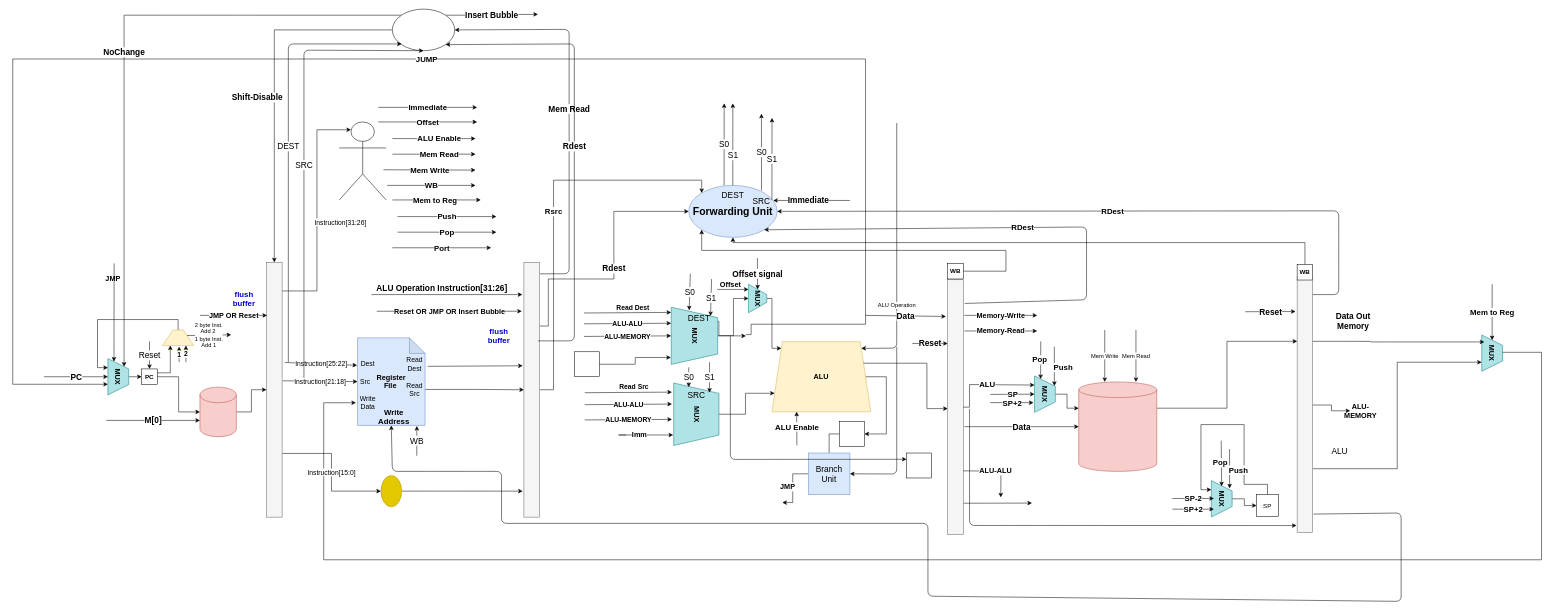
The diagram is 1555 pixels wide and 615 high, and some of its shapes have lost their labels. Here are the shapes that lost their labels. From the top down, the centre of each, then its label:
the point at 423,30: Hazards Detection Unit
the point at 362,160: Control Unit
the point at 178,337: ADD
the point at 586,364: In Port
the point at 217,412: Instruction Memory
the point at 1117,426: Data Memory
the point at 851,433: CCR
the point at 919,465: Out Port
the point at 391,491: Sign Extend
